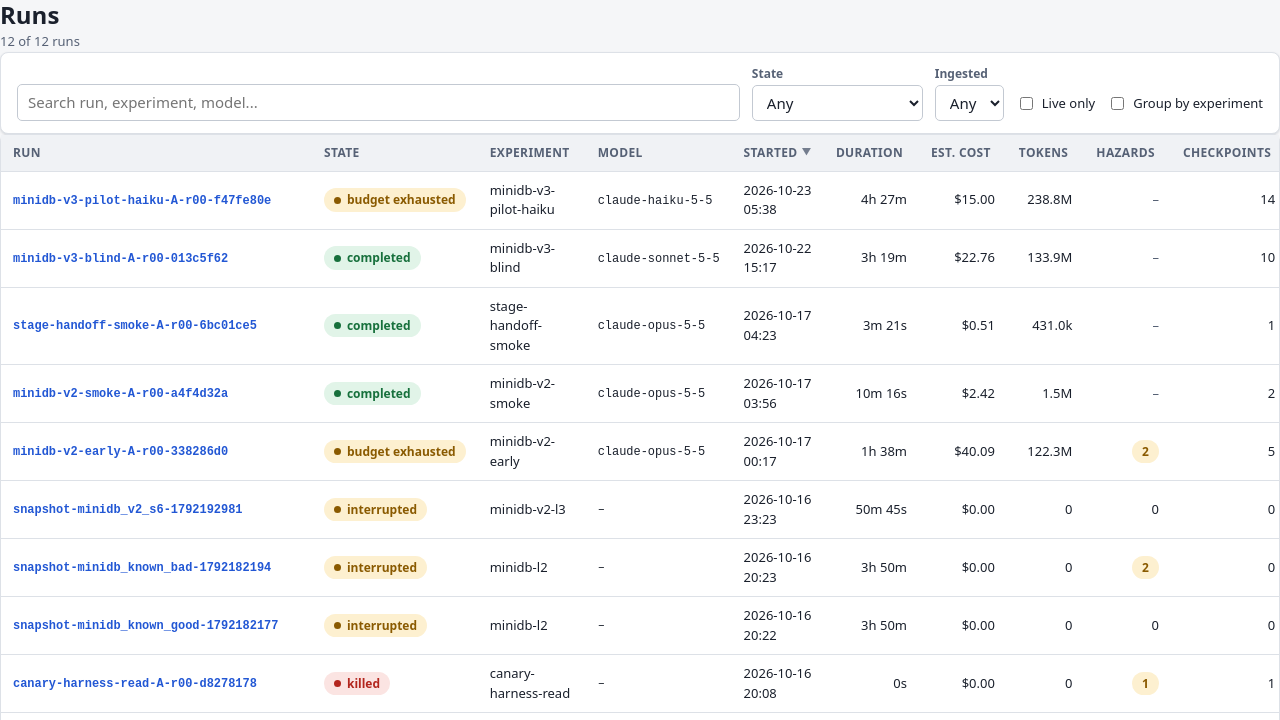
Test case: RunsView › filters by search text and shows an empty state with a way back
Expected: the text "12 of 12 runs" is shown, [0,32,80,52]
Type "canary" into the search field with placeholder "Search run, experiment, model..." at (378, 102), box [17,84,740,120]
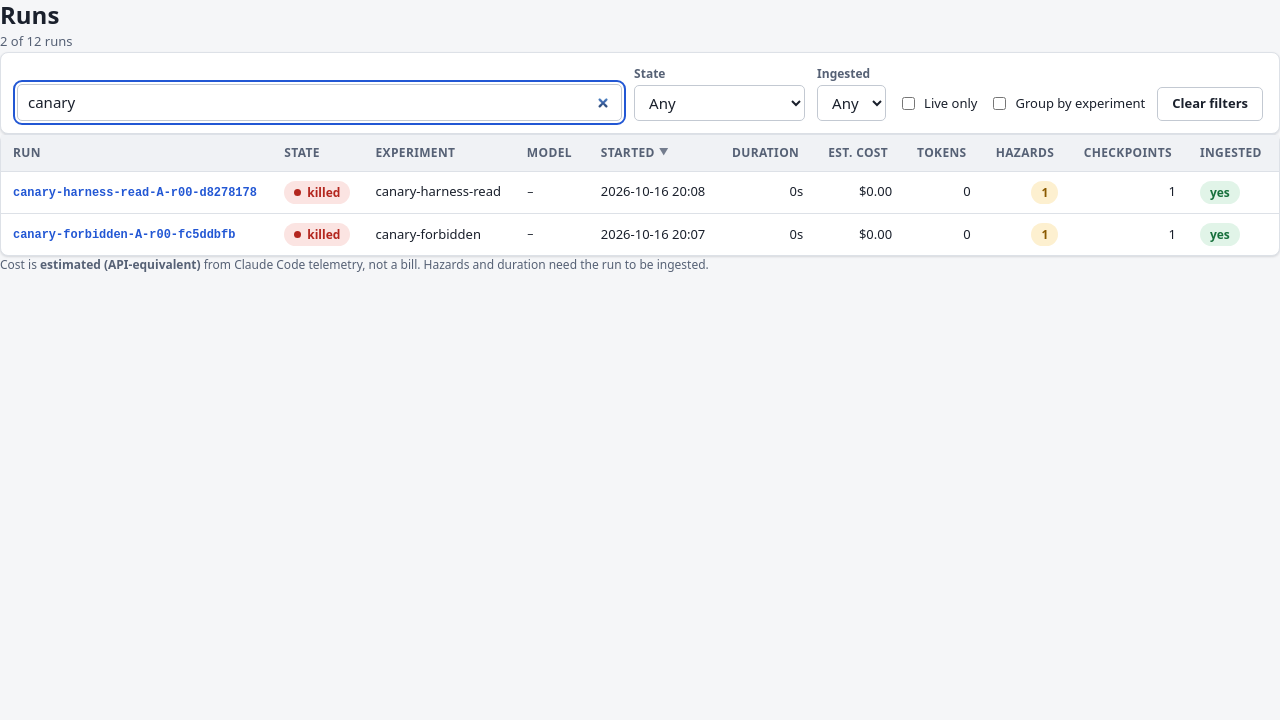
Expected: the text "2 of 12 runs" is shown, [0,32,72,52]
Clear the search field at (320, 102), box [17,84,622,120]
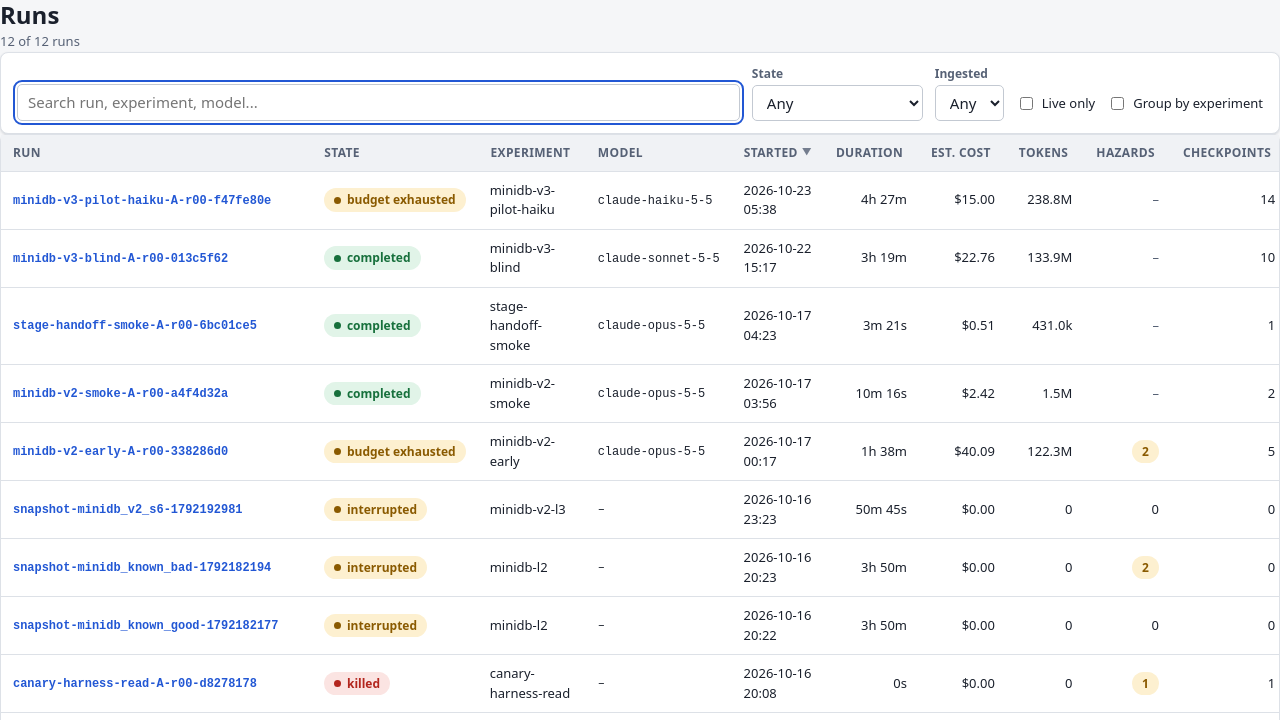
Type "zzz" into the search field at (378, 102), box [17,84,740,120]
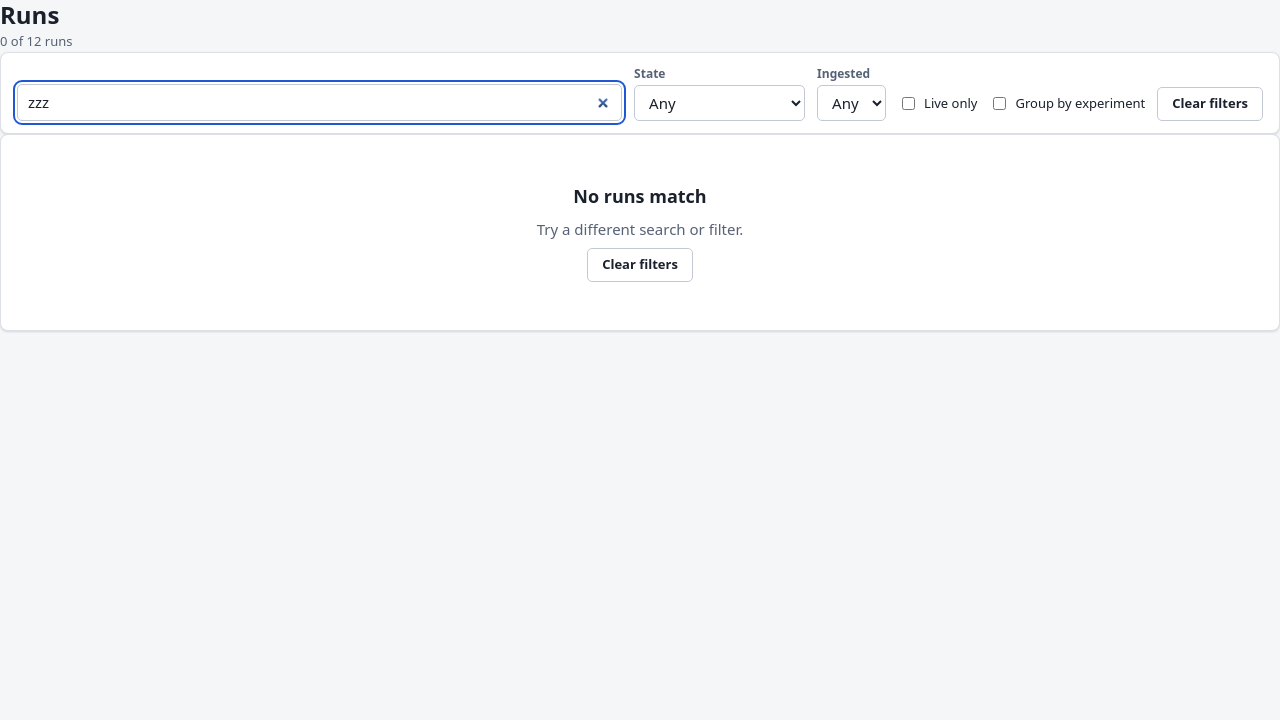
Expected: the text "No runs match" is shown, [573,182,707,210]
Click the button "Clear filters" next to "Group by experiment" at (1210, 104), box [1157,87,1263,120]
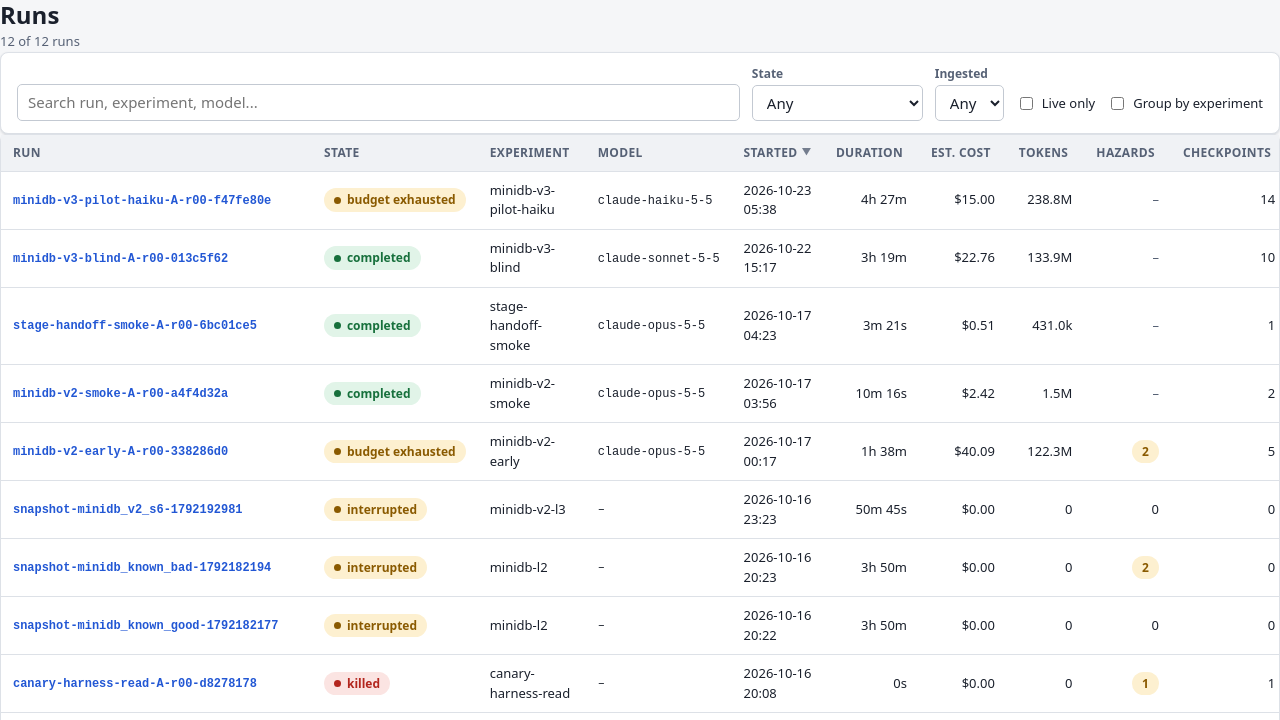
Expected: the text "12 of 12 runs" is shown, [0,32,80,52]
